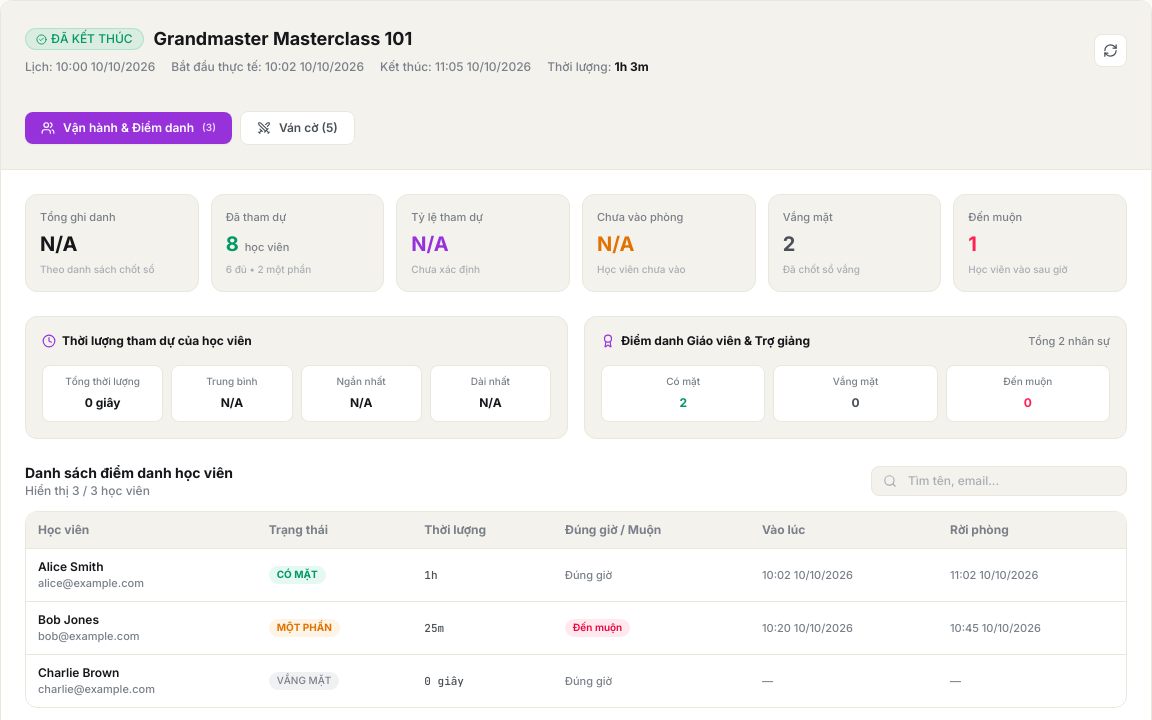
TASK 9.5 — Live Session Analytics UI (LiveSessionAnalyticsView) › renders null metrics as N/A and does not format missing data as 0 or 0%
Check: the element with test id "metric-total-enrolled" shows "N/A", box [40, 232, 78, 256]
Check: the element with test id "metric-attendance-rate" shows "N/A", box [411, 232, 449, 256]
Note: Switch to chess tab
Click the button with test id "tab-chess". click: [297, 128]
box: [240, 111, 355, 145]
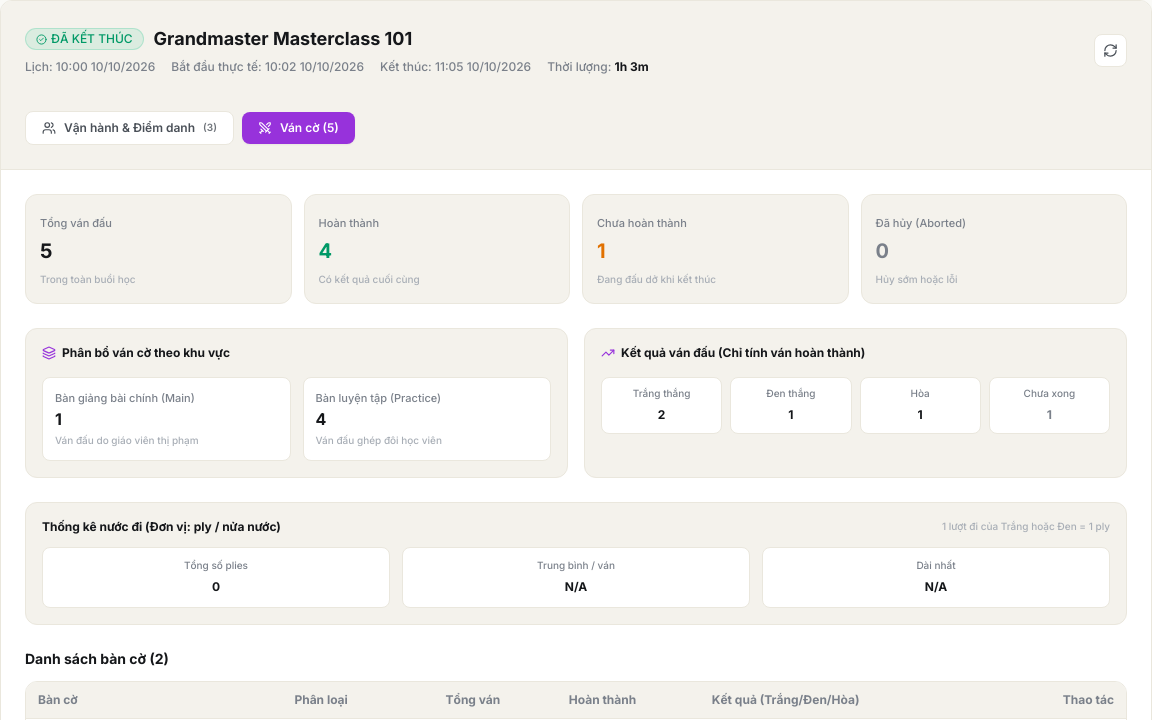
Check: the element with test id "chess-move-stats-card" shows "N/A", box [565, 578, 587, 594]
